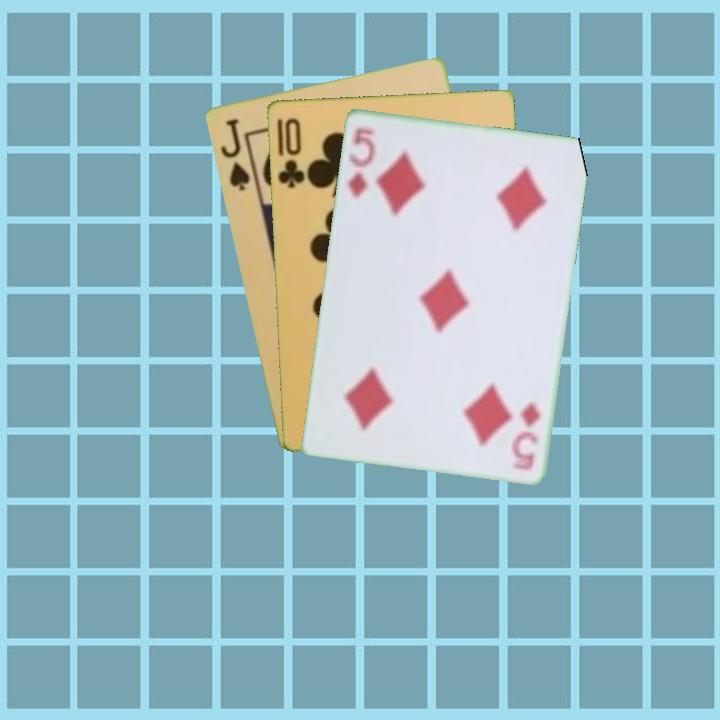10c: (274, 114, 308, 191)
5d: (344, 124, 378, 200), (509, 397, 542, 473)
Js: (216, 114, 253, 194)
